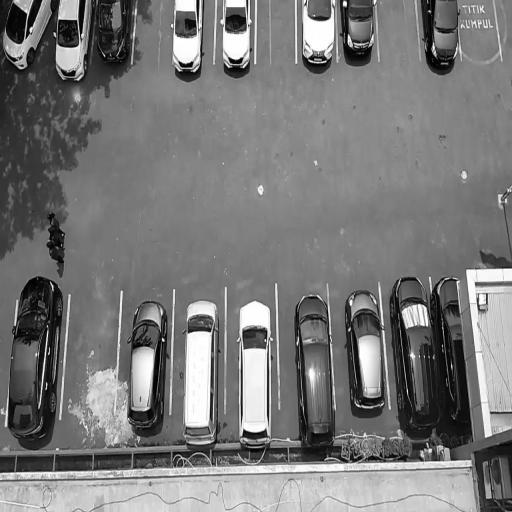Car: (4, 272, 66, 435), (290, 288, 342, 460), (392, 269, 442, 438), (430, 270, 476, 448), (178, 293, 226, 455), (234, 293, 278, 455), (122, 296, 172, 436), (345, 285, 390, 418), (1, 0, 49, 75), (52, 0, 90, 92), (168, 0, 206, 90), (91, 0, 134, 77), (299, 0, 339, 77), (422, 0, 460, 74), (219, 0, 254, 80), (341, 0, 375, 67)
Space Available: (69, 288, 115, 436), (378, 0, 420, 64), (461, 0, 502, 64), (257, 0, 296, 63), (136, 0, 172, 67)
